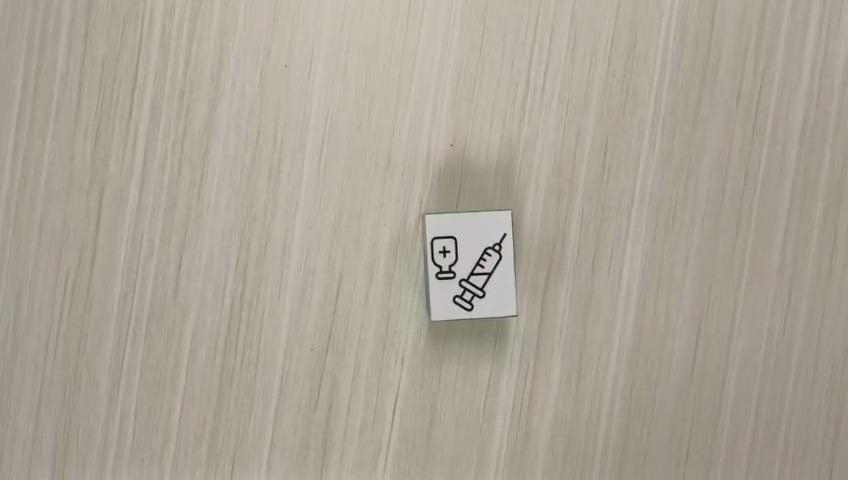antiseptic cream: (422, 208, 518, 322)
